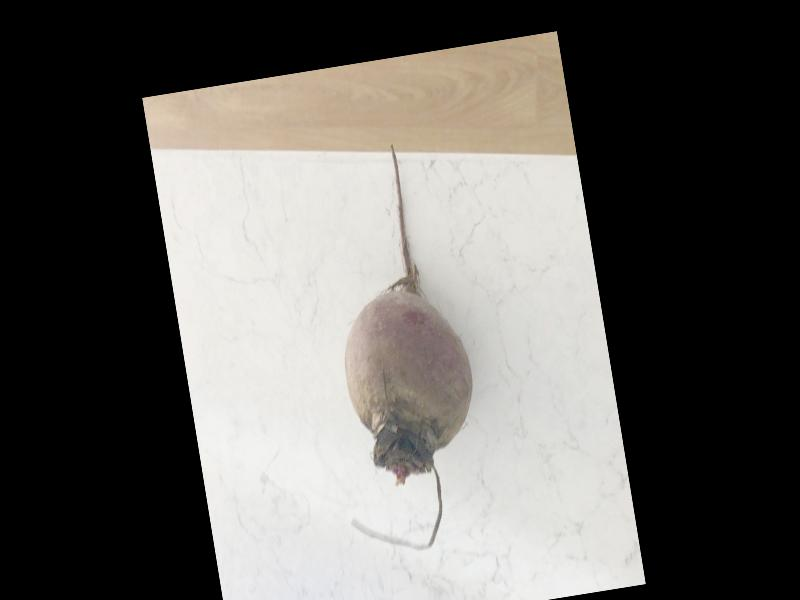Beet: (293, 136, 497, 558)
